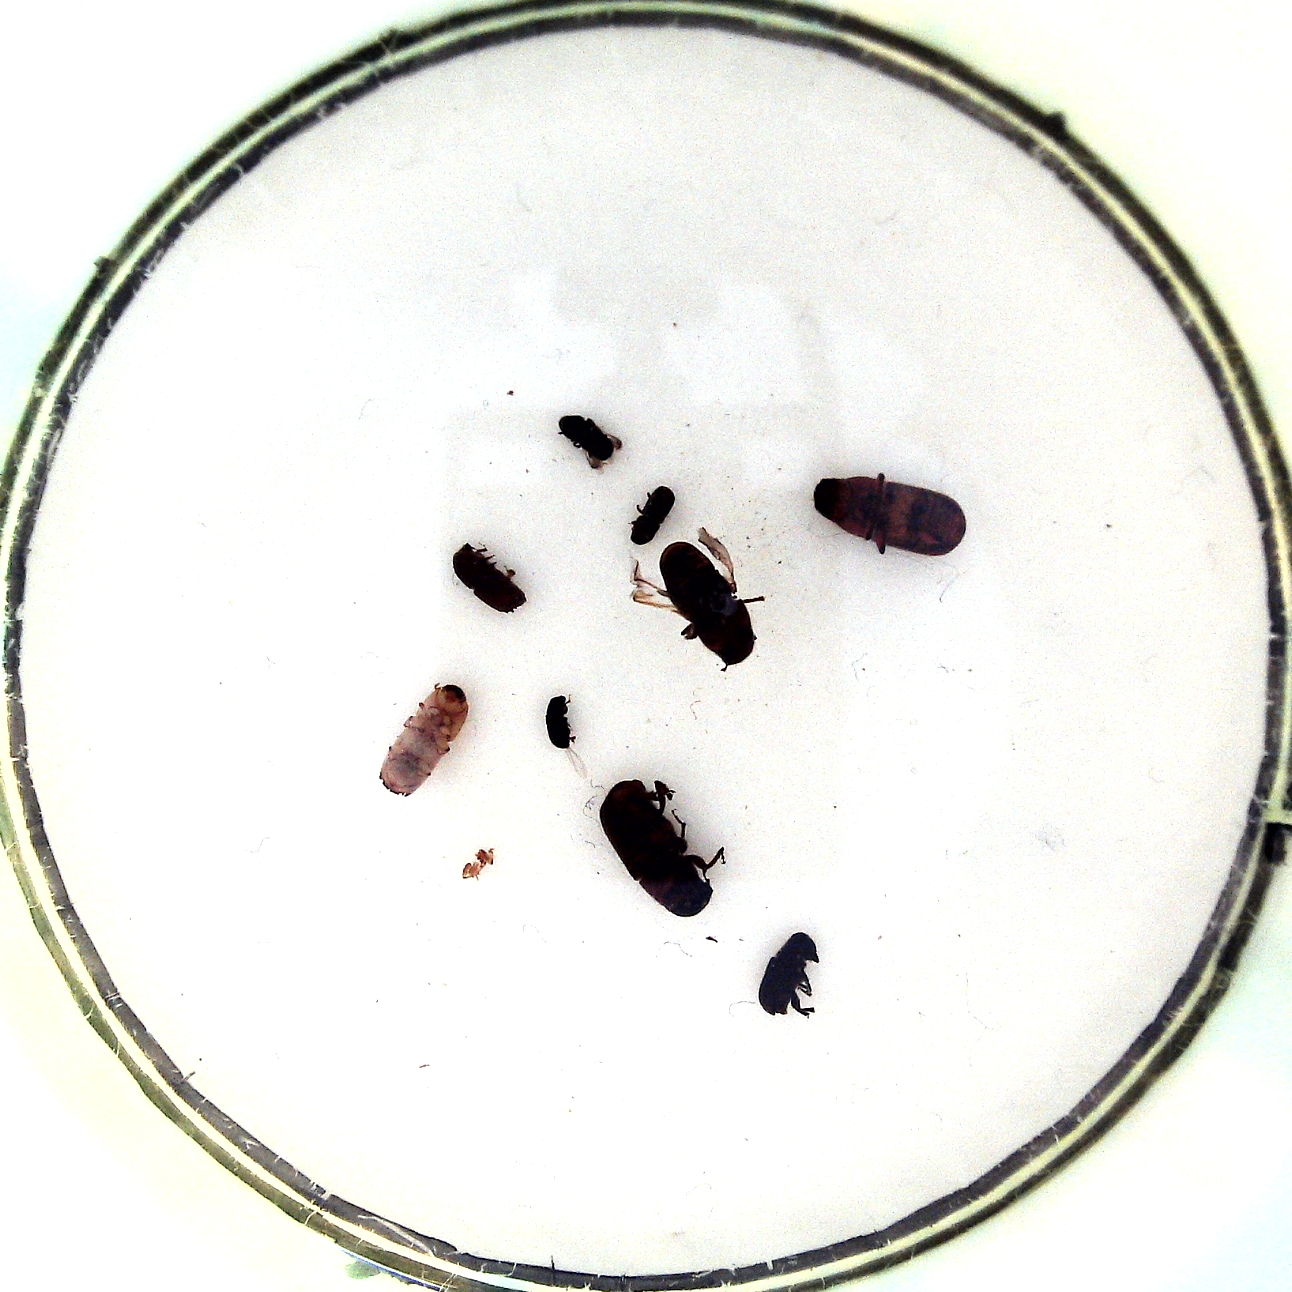Boerner: (368, 681, 474, 802)
Leconte: (616, 527, 765, 674), (594, 771, 728, 922), (807, 466, 974, 563)
Linnaeus: (448, 537, 535, 616)
armandi: (755, 930, 828, 1022)
coleoptera: (550, 407, 628, 471), (541, 687, 589, 779), (624, 483, 677, 550)
